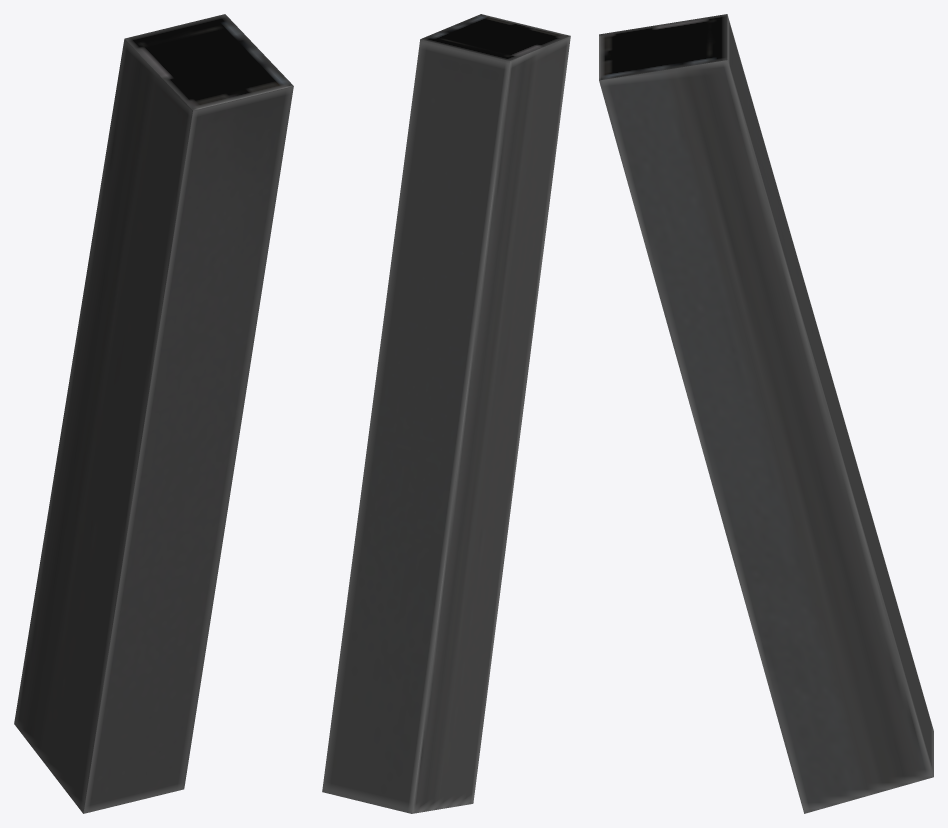
Rendered from MP510_Mag.fbx.
3 renders of one model, left to right at view 1: azimuth 30°, elevation 25°; view 2: azimuth 150°, elevation 25°; view 3: azimuth 270°, elevation 25°, orthographic. The views are drawn at different scales.
Visible parts, largest first — view 1: MP5A1.005; view 2: MP5A1.005; view 3: MP5A1.005.
Part boxes in pixels (x1,y1,x2,y2): MP5A1.005: (14,14,293,813); MP5A1.005: (322,14,570,813); MP5A1.005: (599,14,933,813).
Bounding box in the file's own units: 0.0153 × 0.0469 × 0.1165.
